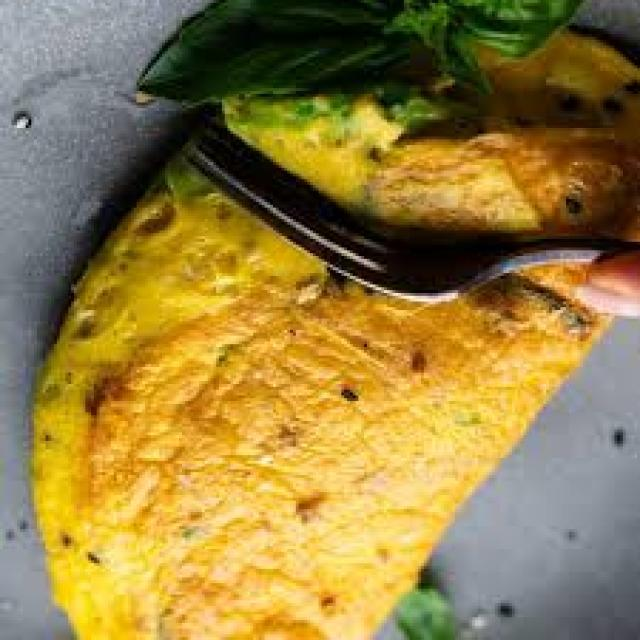telur_ayam_dadar: (25, 28, 638, 640)
